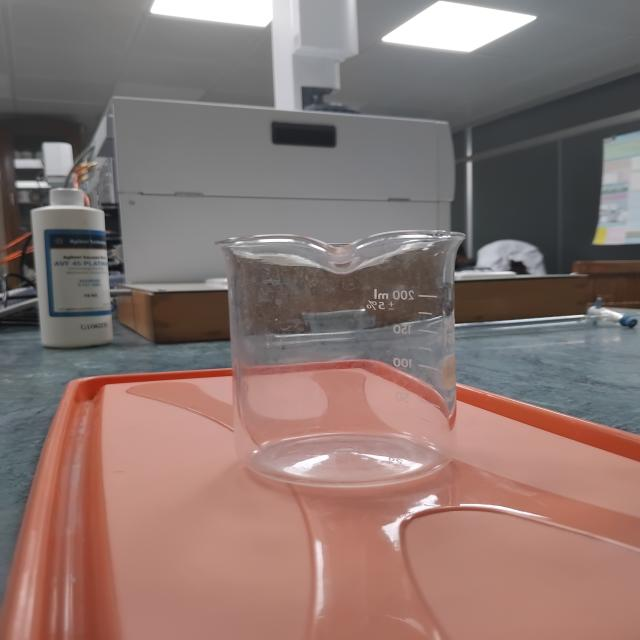Beaker: (180, 174, 518, 518)
